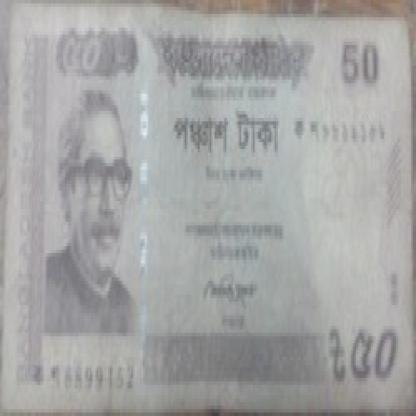Fifty taka: (58, 28, 136, 104), (335, 42, 388, 100)
